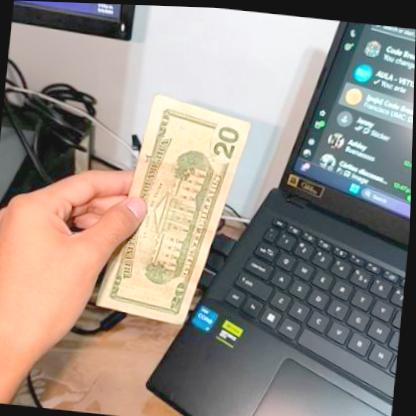twenty-back: (94, 86, 257, 331)
